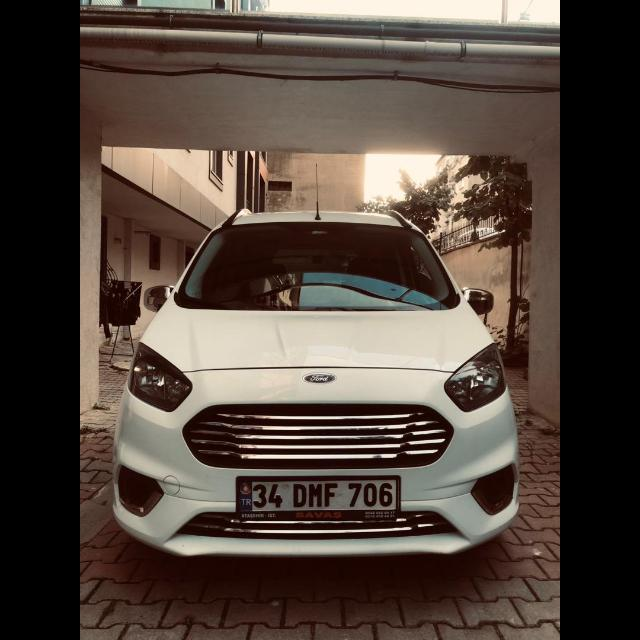Plaka: (239, 478, 397, 512)
